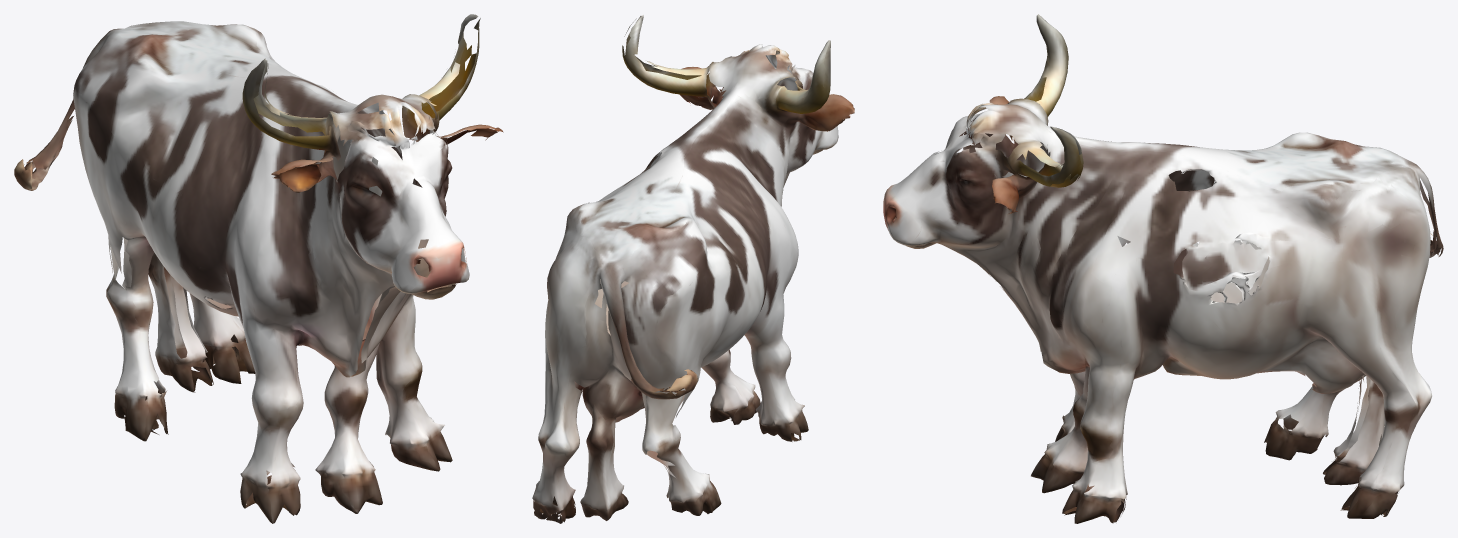
Rendered from critter_cow.glb.
The picture shows the model from 3 angles, left to right: view 1: azimuth 30°, elevation 25°; view 2: azimuth 150°, elevation 25°; view 3: azimuth 270°, elevation 25°; orthographic projection. The views are drawn at different scales.
Parts seen in each view (by area): view 1: world; view 2: world; view 3: world.
Boxes of the visible parts, x1,y1,x2,y2 form: world: [14, 14, 503, 523]; world: [532, 15, 854, 523]; world: [883, 14, 1443, 523].
Bounding box in the file's own units: 0.5009 × 0.8553 × 1.
1 material, 1 textured.
